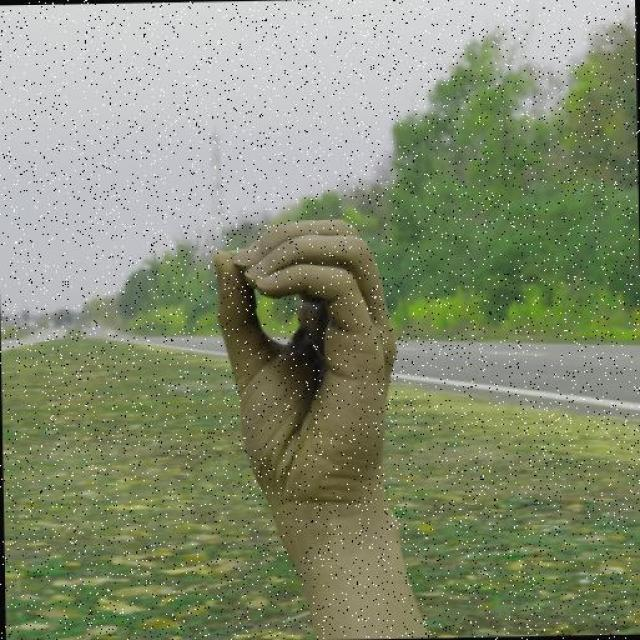O: (208, 212, 404, 526)
